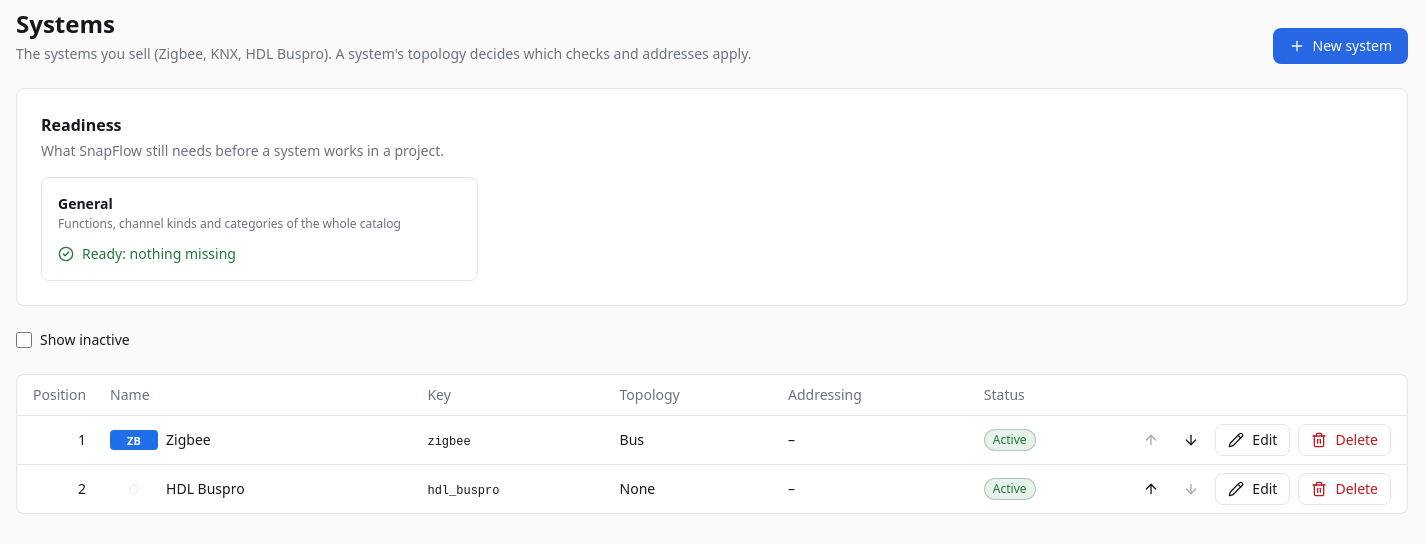
Test case: ProductTypesPage › sends nothing when the visible neighbour is gone from the fresh list
This screenshot has width=1425, height=544.
What coordinates should you click on to do the following:
click the button named "Move Zigbee down"
I would click on:
 (1191, 440)
Its box is [1175, 424, 1207, 456].
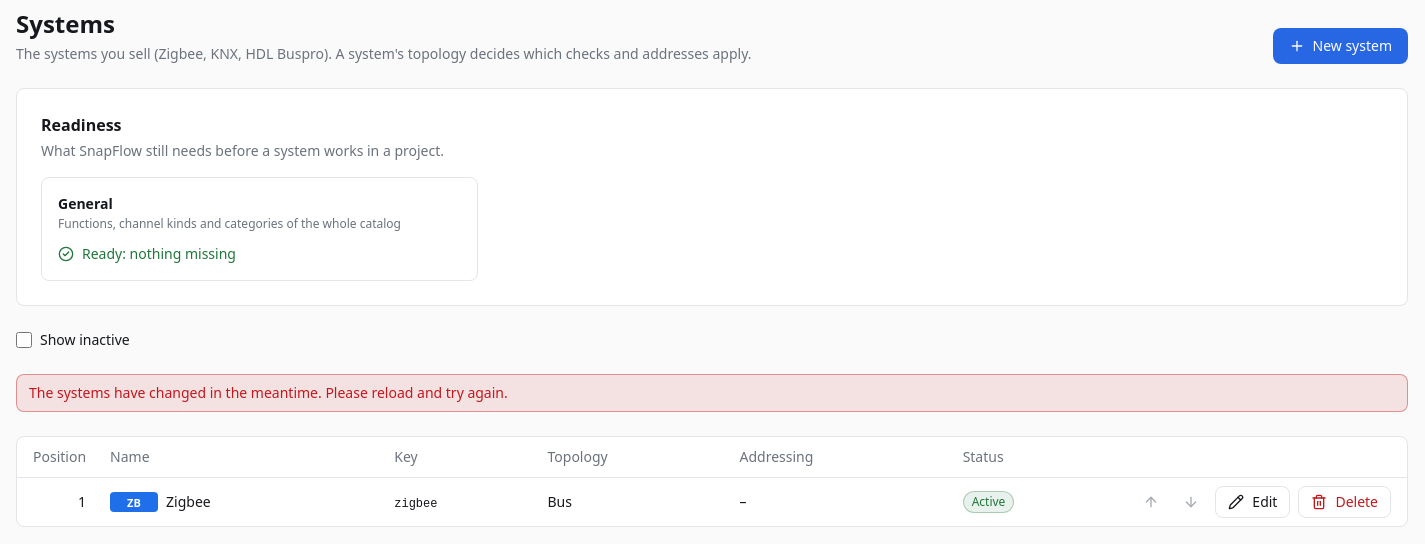
Result: the message shows "The systems have changed in the meantime." at [29, 383, 508, 402]
